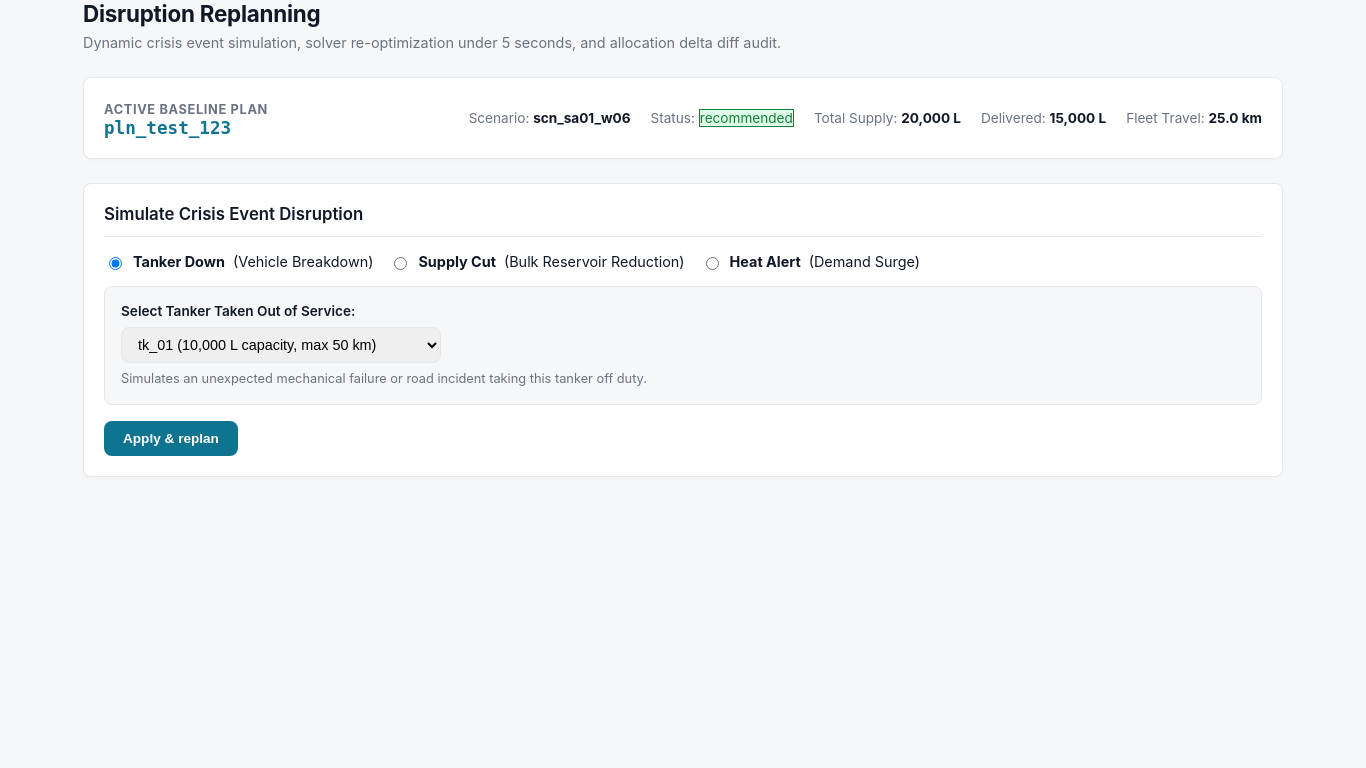
Test: Dashboard M12 Screens › Screen 5: Replan › applies disruption and displays replanning latency and diff table when plan exists
This screenshot has width=1366, height=768.
Expected: the text "pln_test_123" is shown, [104, 118, 231, 138]
Click the button "Apply & replan" at (171, 438), box [104, 421, 238, 456]
(page scrolled)
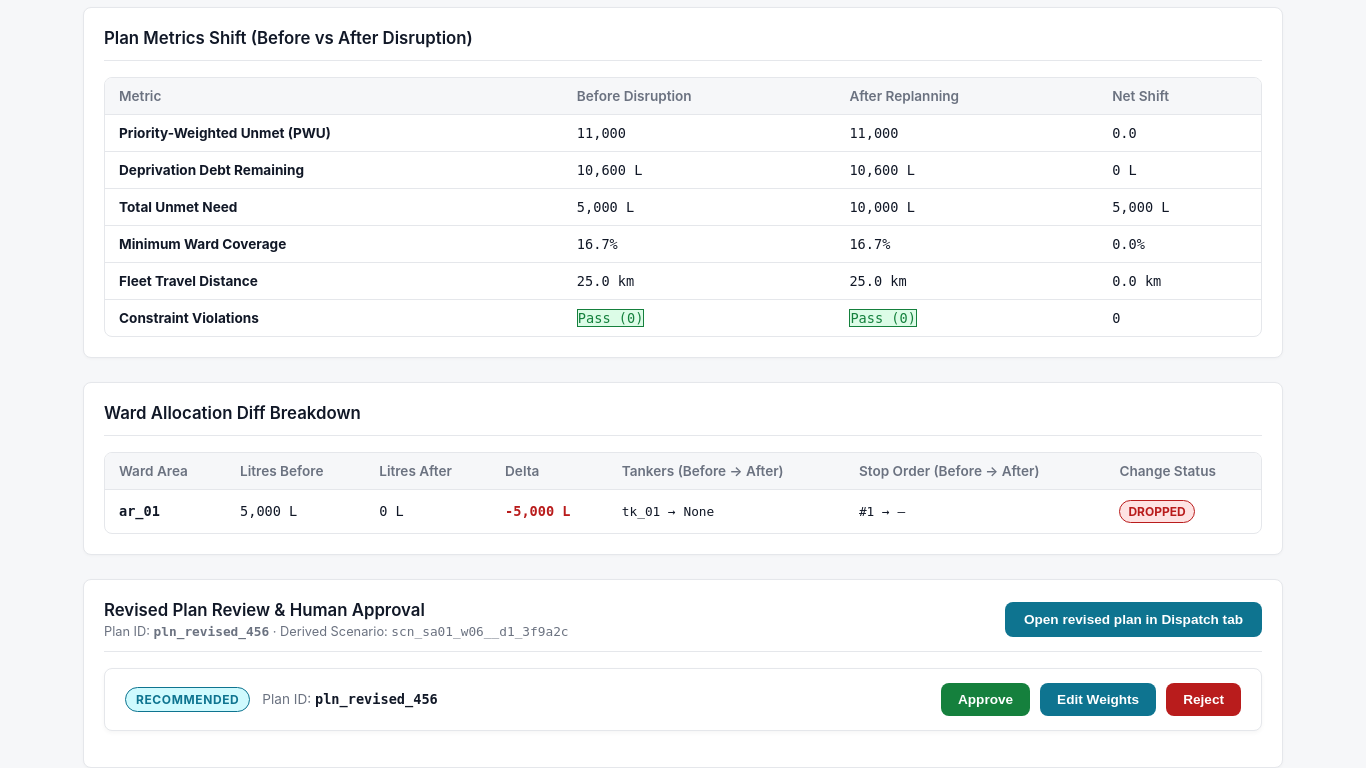
Result: the heading "Ward Allocation Diff Breakdown" is shown at [104, 403, 361, 423]
Result: the text "Dropped" is shown at [1119, 500, 1195, 523]
Result: the button "Open revised plan in Dispatch tab" is shown at [1005, 602, 1262, 637]
